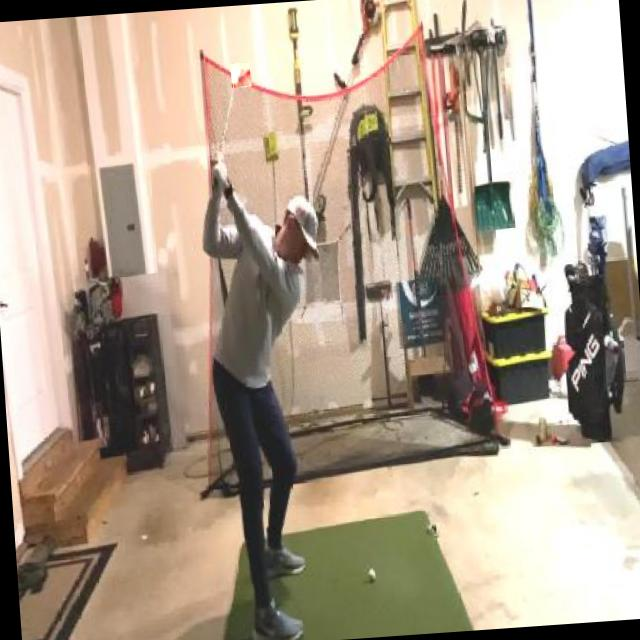club head: (230, 62, 250, 88)
